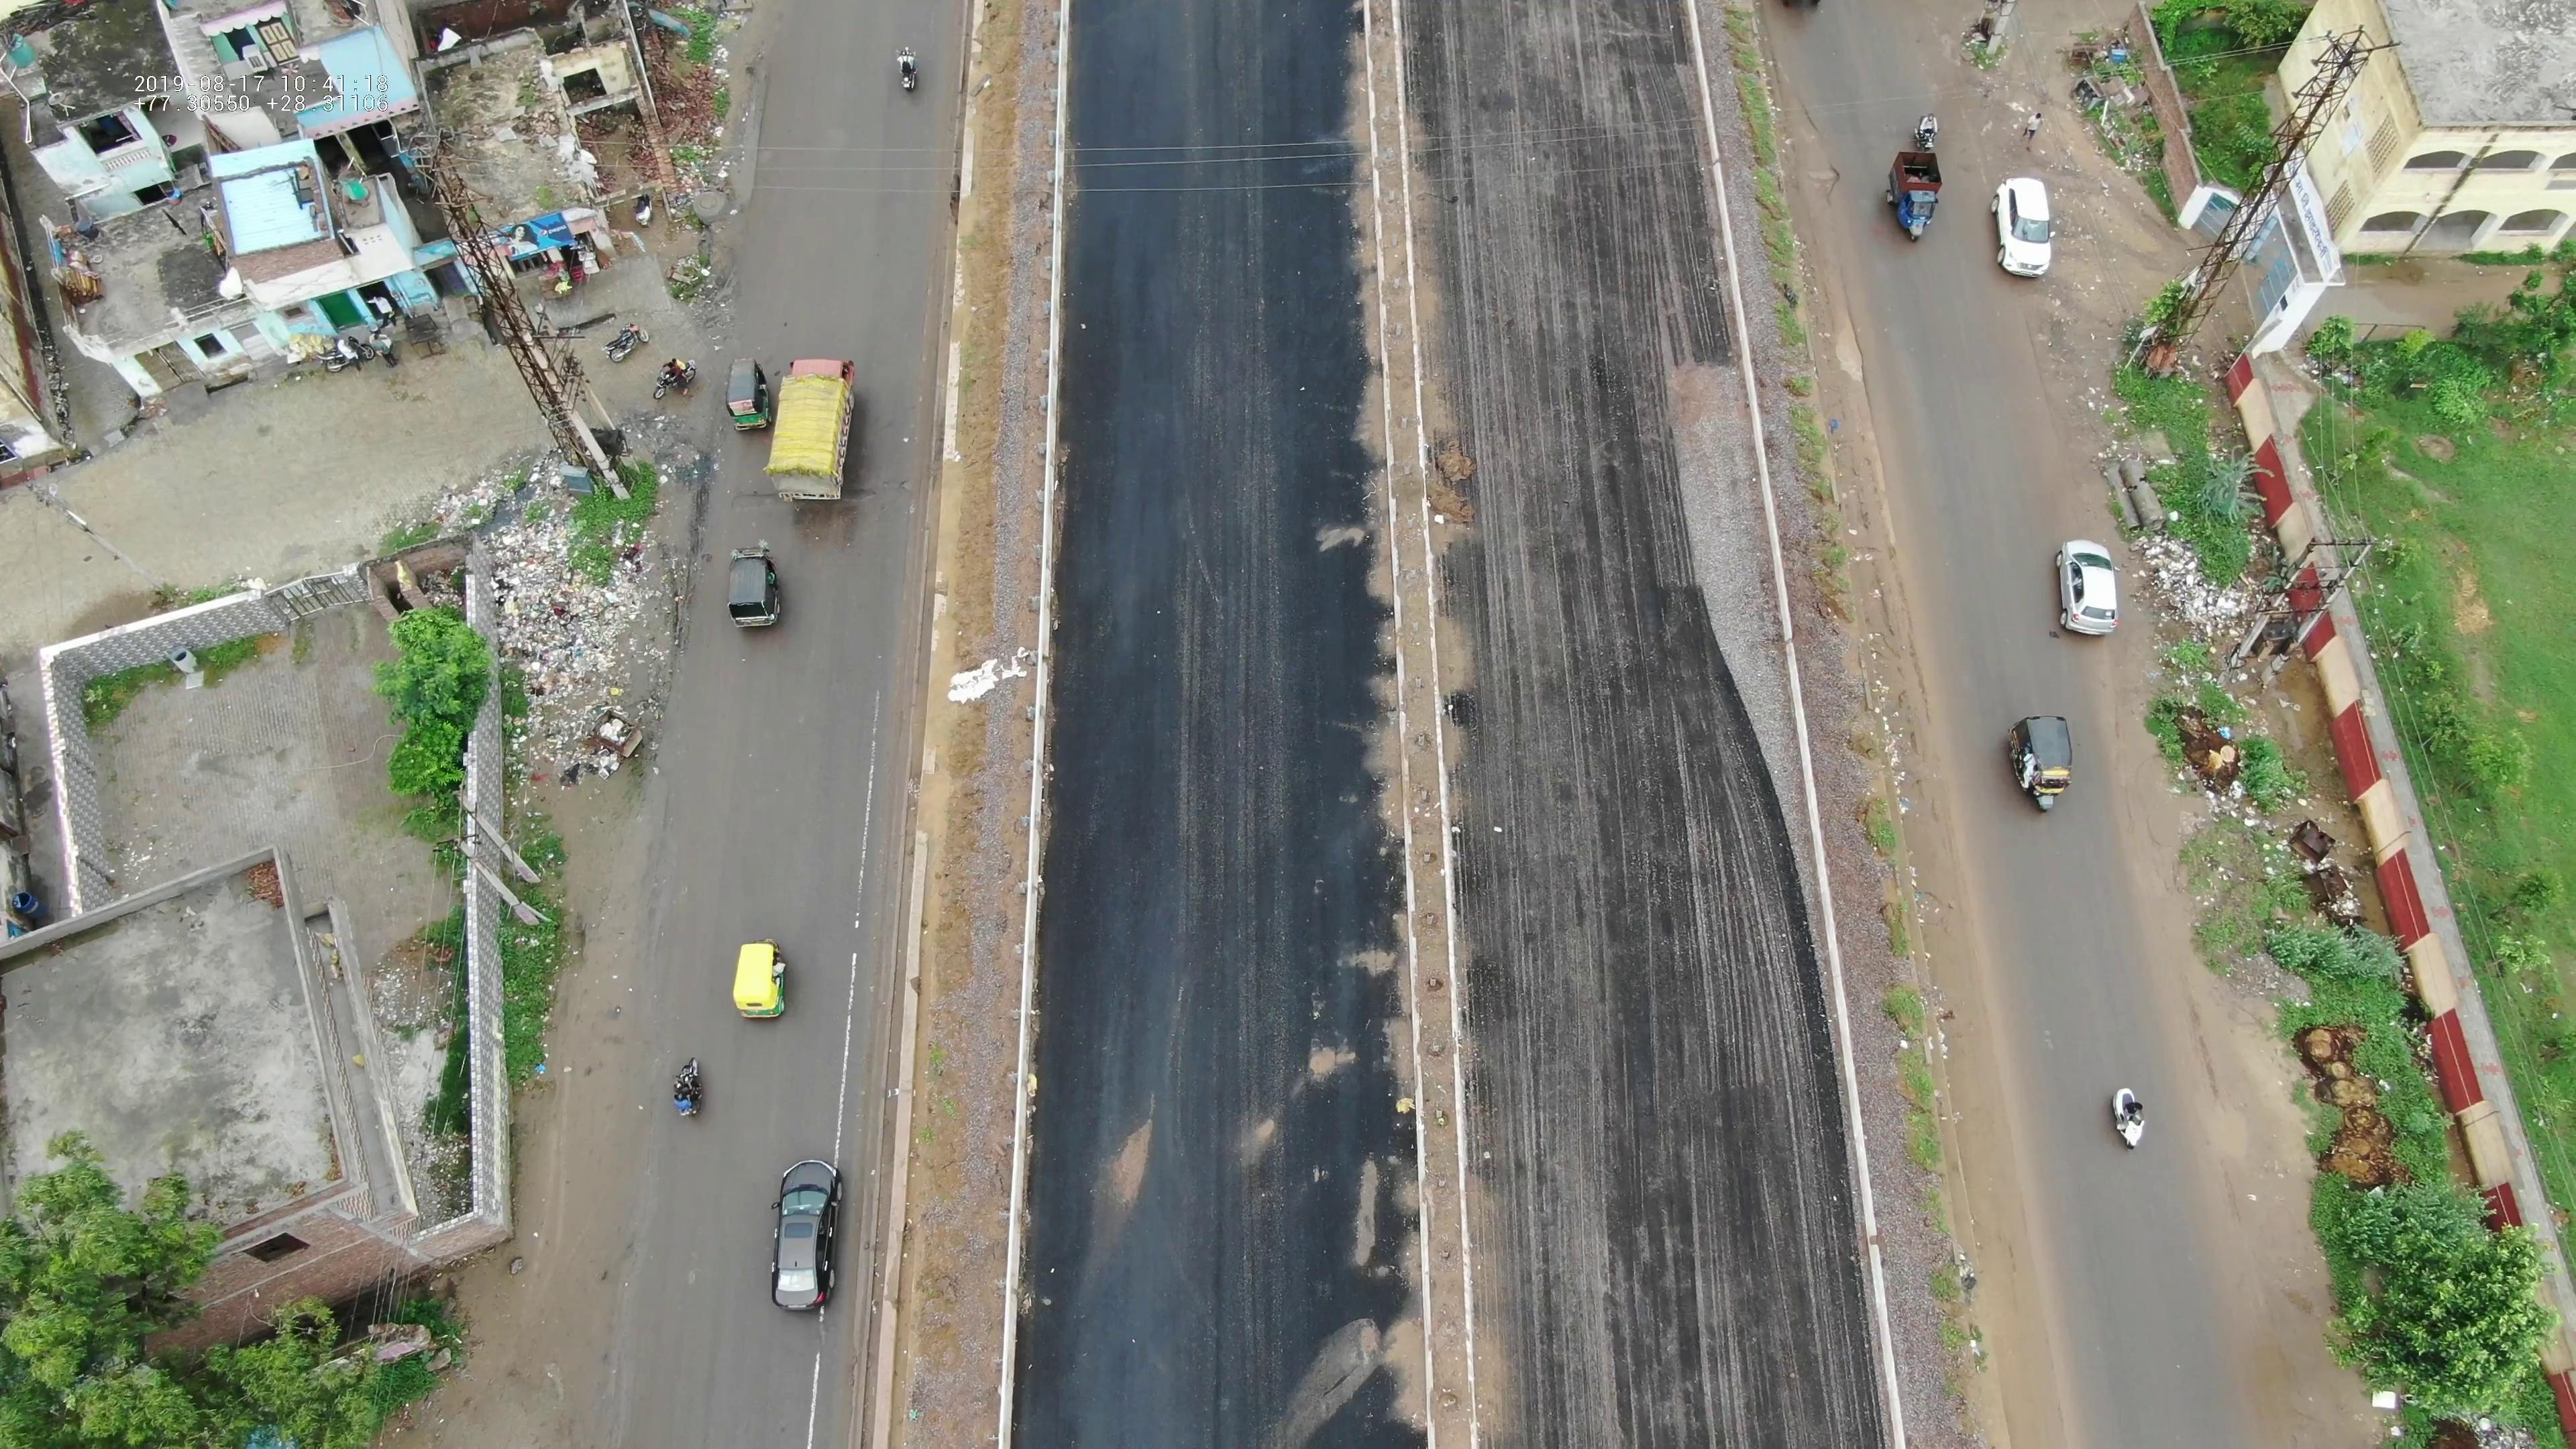Road_side_garbage: (472, 520, 658, 711), (2132, 517, 2256, 640)
